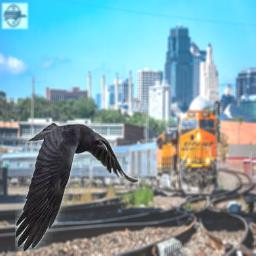Crow: (15, 121, 139, 251)
